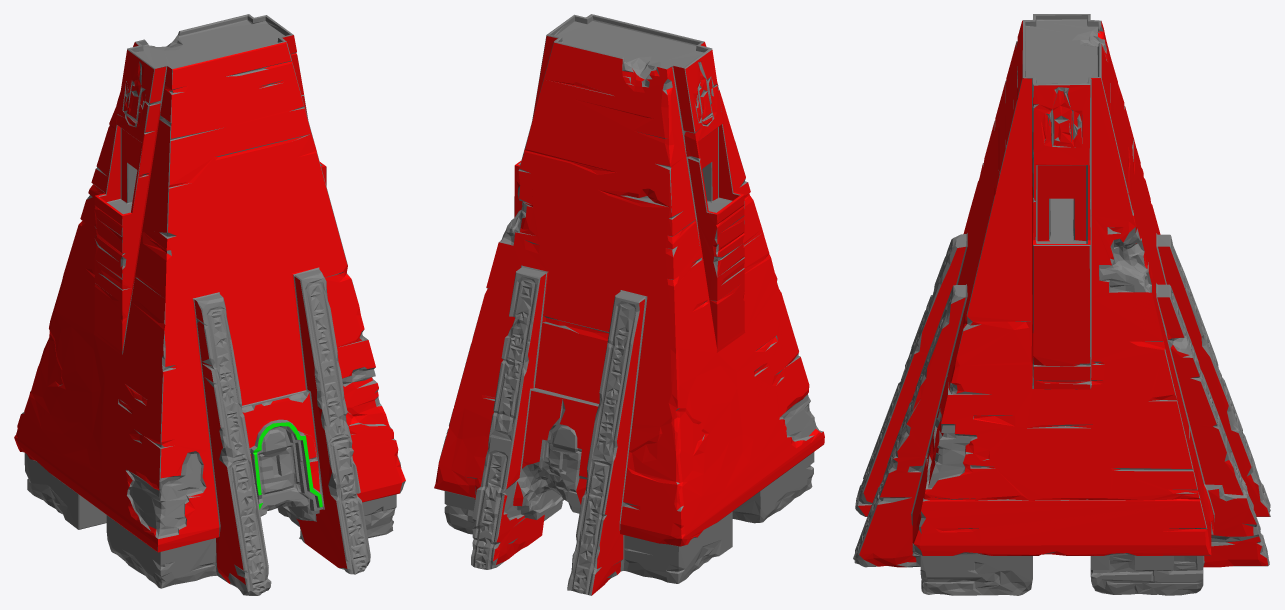
File: Building02.fbx
The picture shows the model from 3 angles, left to right: view 1: azimuth 30°, elevation 25°; view 2: azimuth 150°, elevation 25°; view 3: azimuth 270°, elevation 25°; orthographic projection. The views are drawn at different scales.
Parts seen in each view (by area): view 1: Building02; view 2: Building02; view 3: Building02.
Part boxes in pixels (bbox=[...]): Building02: bbox=[14, 14, 405, 595]; Building02: bbox=[434, 14, 824, 595]; Building02: bbox=[853, 14, 1270, 595].
Size of the model in its own units: 2500 by 4508 by 3497.
